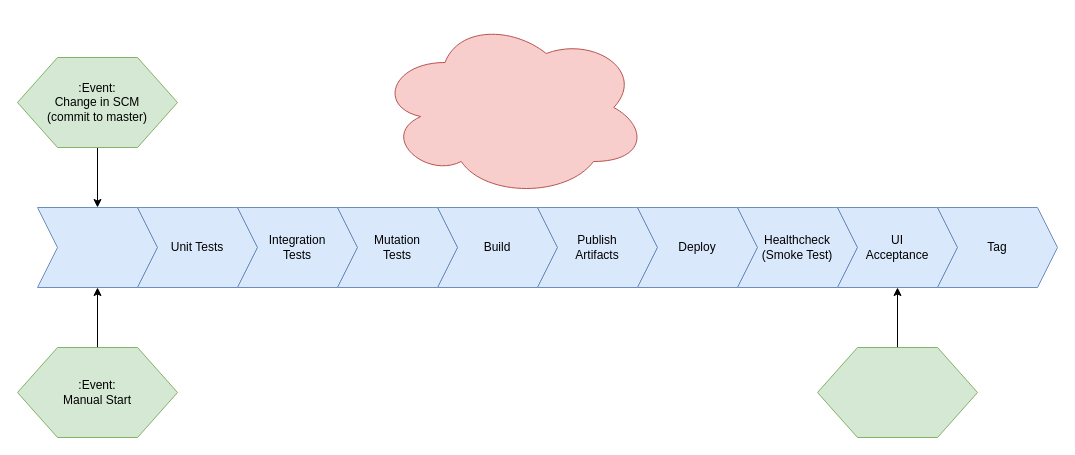
Image size: 1075x455. Some labels were removed from this diagram. Here are the shapes that lost their labels. From the top down, the box of each, then its label:
(376, 16, 648, 198): If any of these stages fail, the pipeline should fail and stop
(36, 206, 158, 288): Checkout
(816, 346, 978, 438): :Event: User accepts
